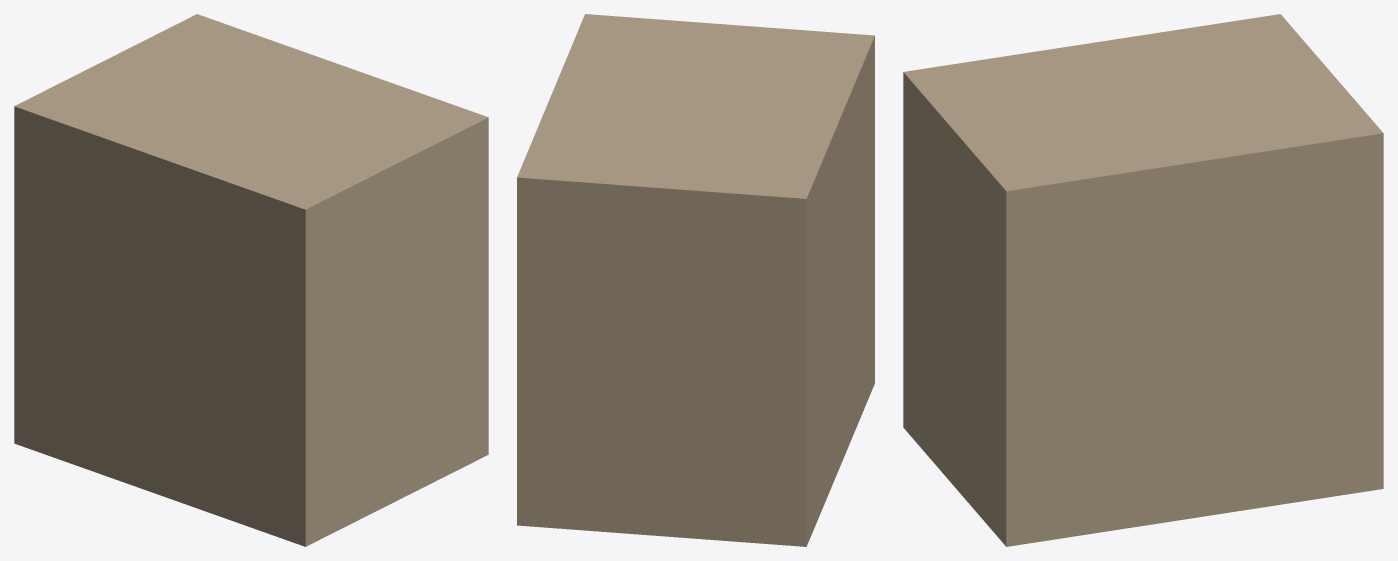
Rendered from bld_107639067.dae.
The picture shows the model from 3 angles, left to right: view 1: azimuth 30°, elevation 25°; view 2: azimuth 150°, elevation 25°; view 3: azimuth 270°, elevation 25°; orthographic projection. The views are drawn at different scales.
Parts seen in each view (by area): view 1: bld_107639067; view 2: bld_107639067; view 3: bld_107639067.
Part boxes in pixels (box(x1,y1,x2,y2)): bld_107639067: box(14, 14, 488, 546); bld_107639067: box(517, 14, 874, 546); bld_107639067: box(903, 14, 1383, 546).
Size of the model in its own units: 8.56 by 9.79 by 8.
